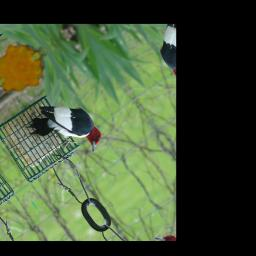Woodpecker: (19, 86, 108, 177)
